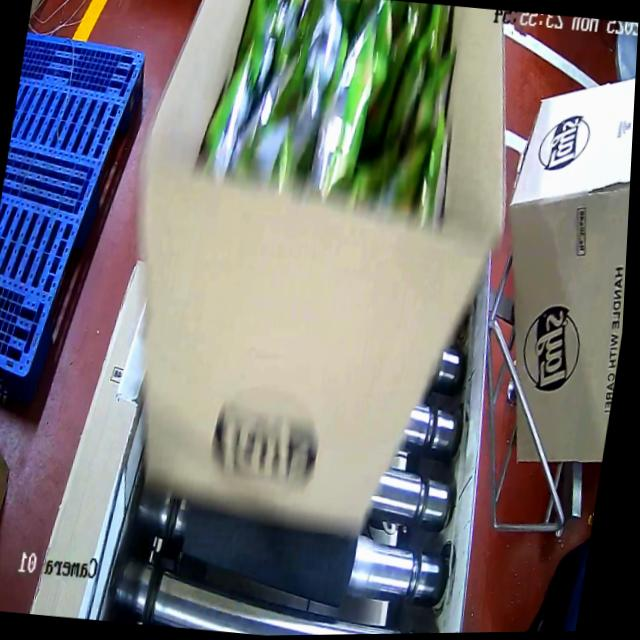YOGURT_HERB: (205, 0, 474, 225)
